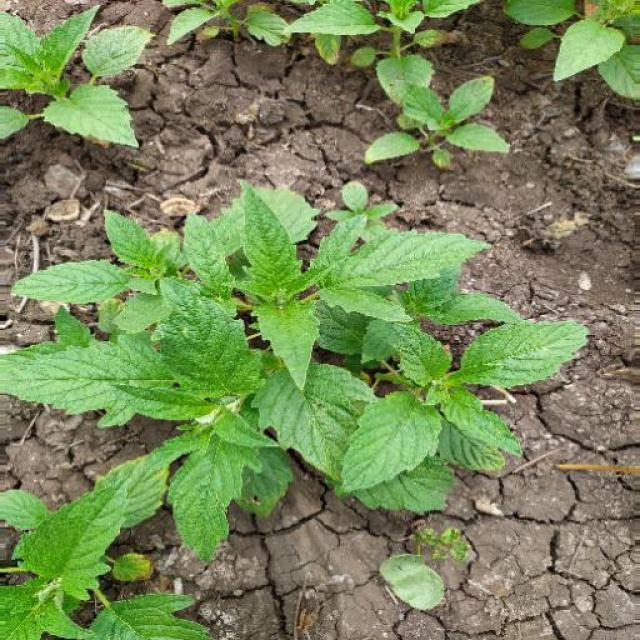crop: (1, 180, 590, 556), (2, 473, 216, 635), (1, 6, 150, 155), (506, 1, 639, 101), (377, 78, 505, 164), (159, 1, 289, 55)
